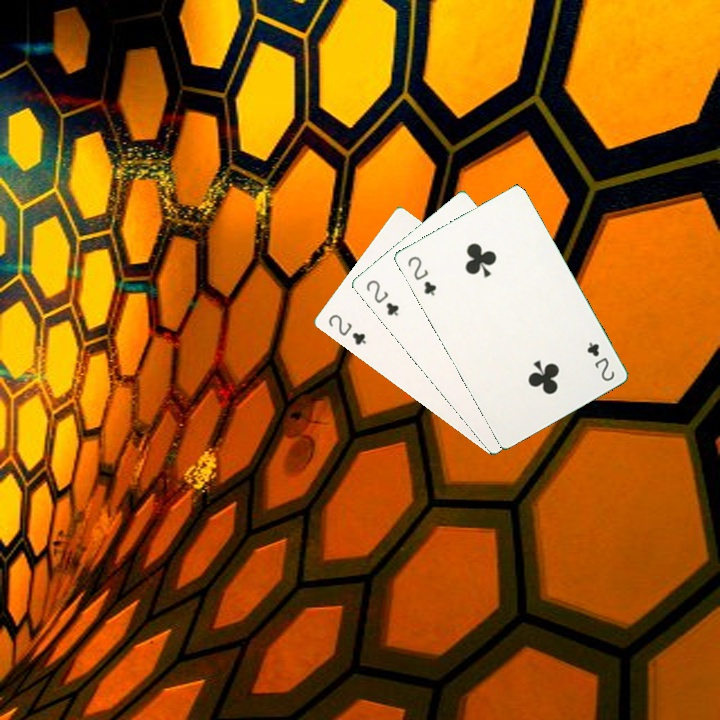2c: (324, 310, 369, 348), (403, 252, 439, 299), (362, 276, 401, 319), (583, 338, 617, 384)
